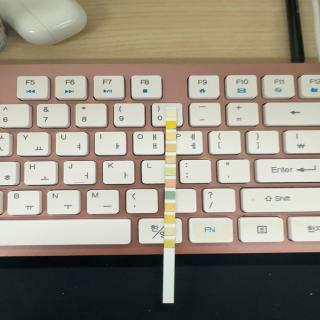mark: (163, 238, 174, 248), (164, 214, 176, 223), (164, 203, 176, 211), (164, 179, 176, 187), (165, 167, 176, 175), (165, 156, 176, 164), (165, 144, 176, 152), (164, 227, 174, 235), (165, 191, 175, 199), (166, 132, 176, 140), (166, 121, 176, 129), (166, 109, 176, 117)
